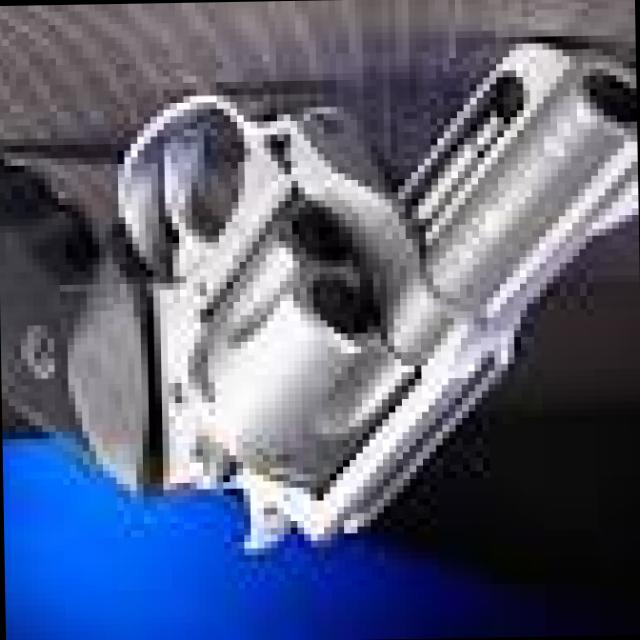Gun: (0, 21, 640, 546)
